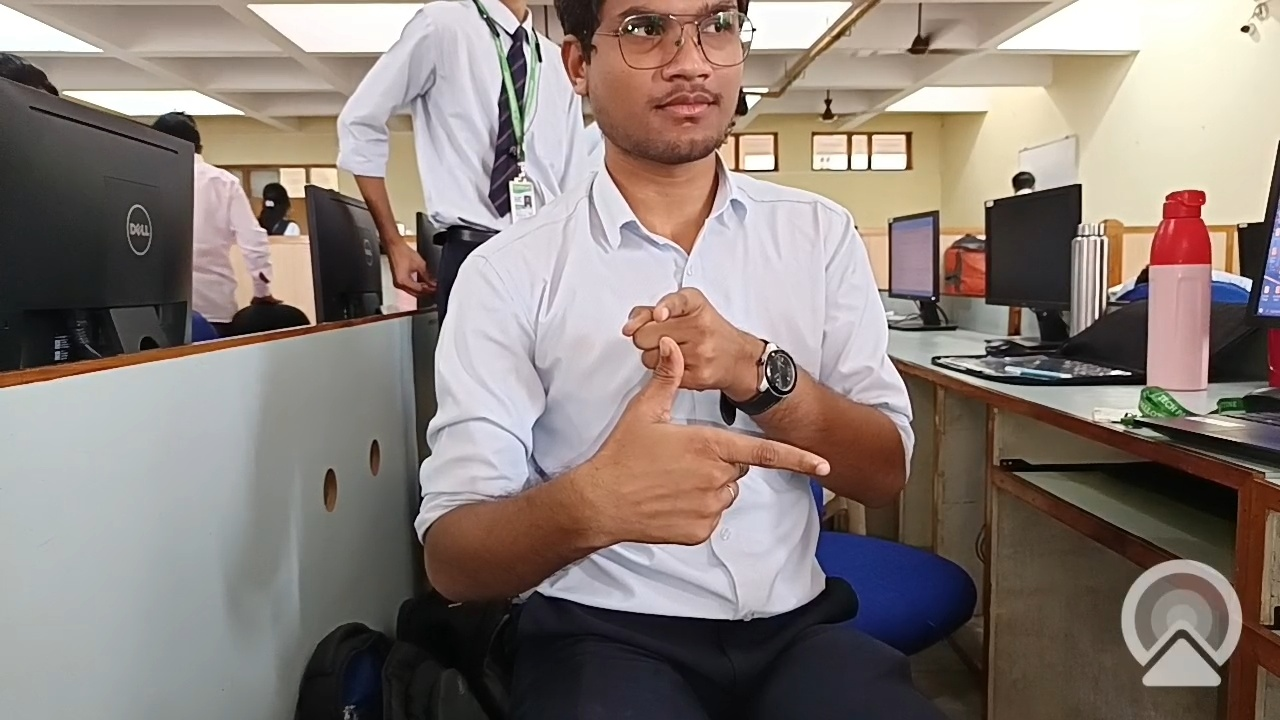J: (564, 260, 872, 620)
